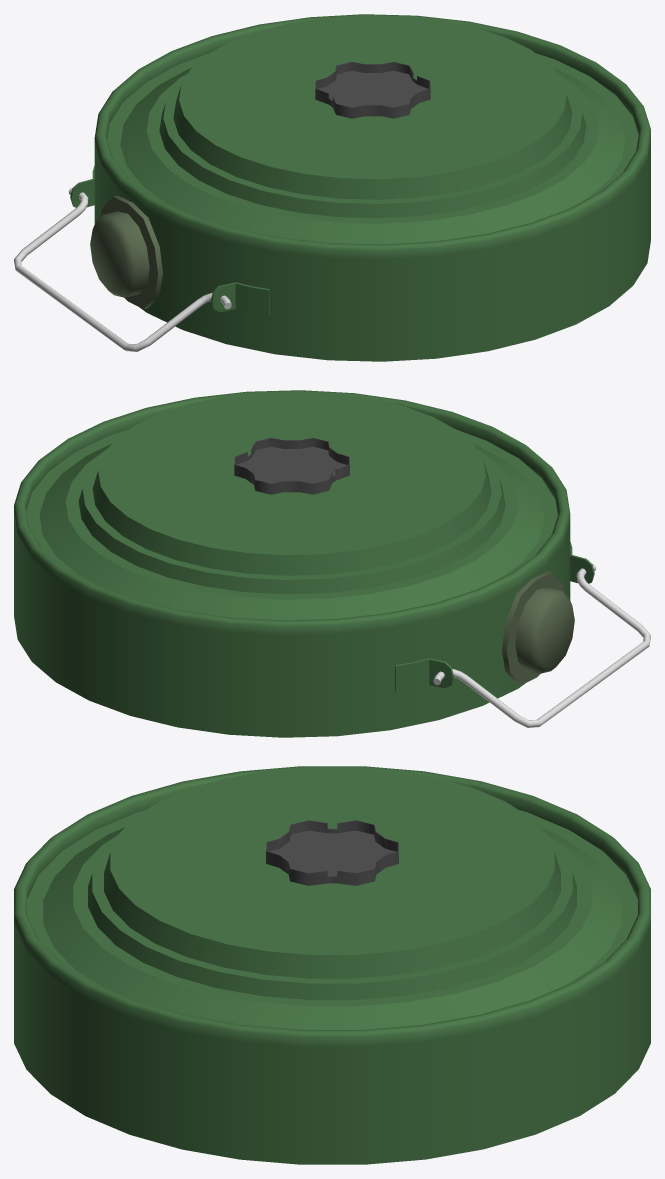
Rendered from Mine.fbx.
3 renders of one model, top to bottom at view 1: azimuth 30°, elevation 25°; view 2: azimuth 150°, elevation 25°; view 3: azimuth 270°, elevation 25°, orthographic. The views are drawn at different scales.
Visible parts, largest first — view 1: Mine; view 2: Mine; view 3: Mine.
Part boxes in pixels (x1,y1,x2,y2): Mine: [14, 14, 650, 361]; Mine: [14, 390, 650, 737]; Mine: [14, 766, 650, 1164].
Size of the model in its own units: 111 by 31.17 by 98.1.
